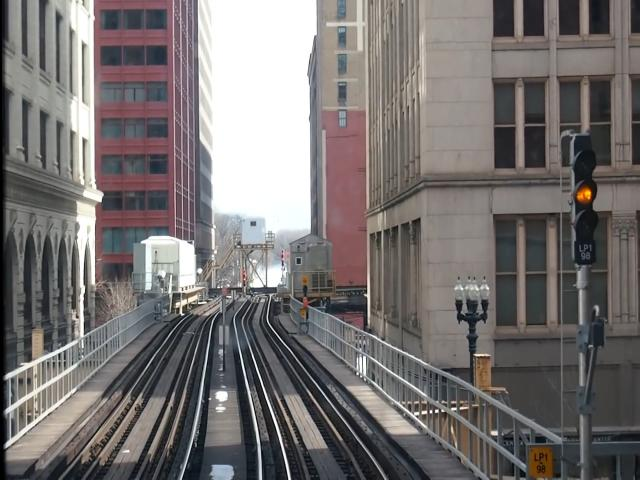signal light: (570, 134, 601, 268), (282, 249, 287, 269), (244, 269, 249, 288)
